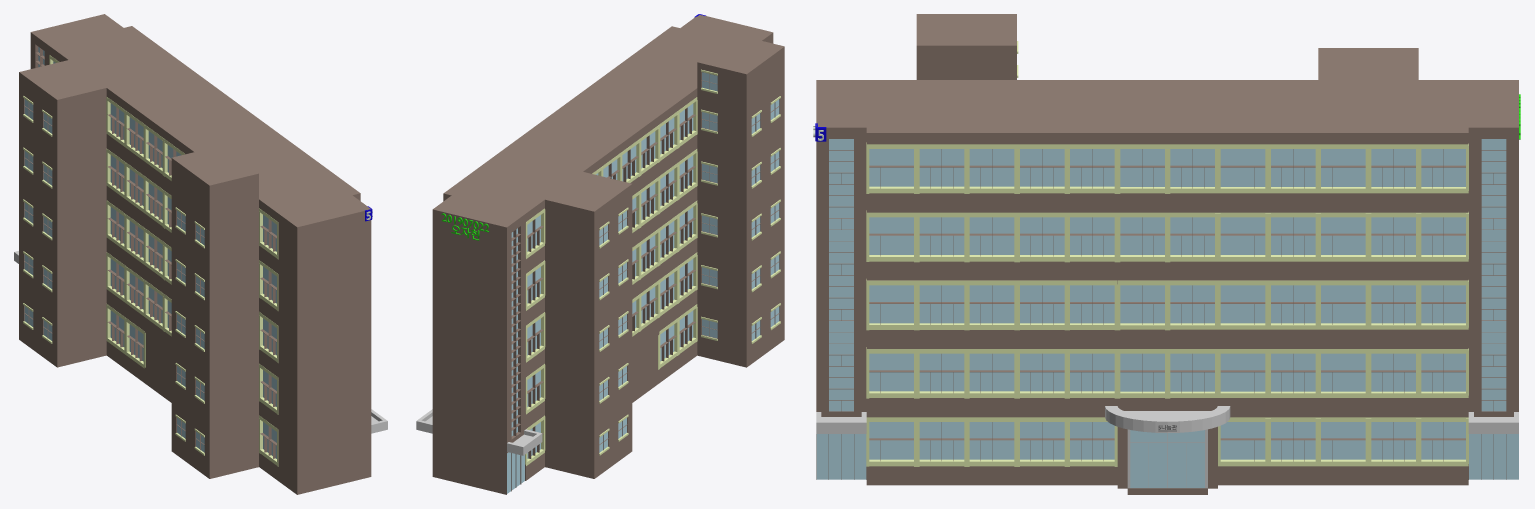
Rendered from 5building_2.glb.
3 renders of one model, left to right at view 1: azimuth 30°, elevation 25°; view 2: azimuth 150°, elevation 25°; view 3: azimuth 270°, elevation 25°, orthographic. The views are drawn at different scales.
Visible parts, largest first — view 1: main, sidebar-1, Cube.007, Cube.018, Cube.067, 후면창문, sidebar-2, Cube.059, Cube.048, Cube.040; view 2: main, sidebar-2, Cube.007, Cube.018, Cube.067, 후면창문, Cube.049, Cube.048, Cube.059, sidebar-1, Cube.040, Cube.038 (+3 smaller); view 3: main, 전면창문, Cube.068, sidebar-2, sidebar-1, Cube.007, Cube.065, Cube.027, Cube.018, Cylinder, Cube.029, Cube.011 (+6 smaller).
Boxes of the visible parts, bbox=[...] form: main: bbox=[49, 26, 360, 480]; sidebar-1: bbox=[278, 195, 371, 494]; Cube.007: bbox=[171, 145, 258, 478]; Cube.018: bbox=[19, 60, 106, 367]; Cube.067: bbox=[49, 55, 278, 466]; 후면창문: bbox=[53, 61, 276, 458]; sidebar-2: bbox=[30, 14, 123, 68]; Cube.059: bbox=[24, 99, 52, 340]; Cube.048: bbox=[177, 210, 204, 452]; Cube.040: bbox=[175, 207, 204, 455]; main: bbox=[443, 26, 727, 480]; sidebar-2: bbox=[432, 195, 525, 494]; Cube.007: bbox=[697, 34, 784, 367]; Cube.018: bbox=[545, 172, 632, 478]; Cube.067: bbox=[525, 97, 697, 465]; 후면창문: bbox=[527, 103, 693, 458]; Cube.049: bbox=[702, 72, 717, 338]; Cube.048: bbox=[751, 99, 779, 340]; Cube.059: bbox=[599, 211, 626, 452]; sidebar-1: bbox=[680, 15, 773, 43]; Cube.040: bbox=[751, 96, 780, 343]; Cube.038: bbox=[511, 228, 517, 436]; main: bbox=[866, 80, 1468, 485]; 전면창문: bbox=[869, 149, 1465, 459]; Cube.068: bbox=[866, 142, 1468, 466]; sidebar-2: bbox=[1468, 80, 1518, 479]; sidebar-1: bbox=[816, 80, 866, 479]; Cube.007: bbox=[916, 14, 1016, 79]; Cube.065: bbox=[1481, 139, 1506, 365]; Cube.027: bbox=[829, 139, 853, 365]; Cube.018: bbox=[1318, 48, 1418, 79]; Cylinder: bbox=[1105, 406, 1230, 432]; Cube.029: bbox=[816, 434, 866, 479]; Cube.011: bbox=[1469, 434, 1518, 479].
Size of the model in its own units: 95.6 by 170 by 282.
